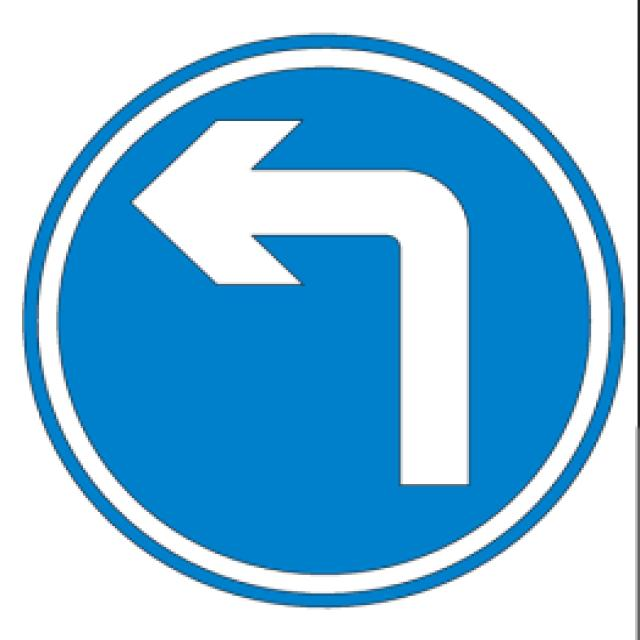Roundabout: (127, 114, 474, 489)
Turn left: (19, 30, 626, 608)
